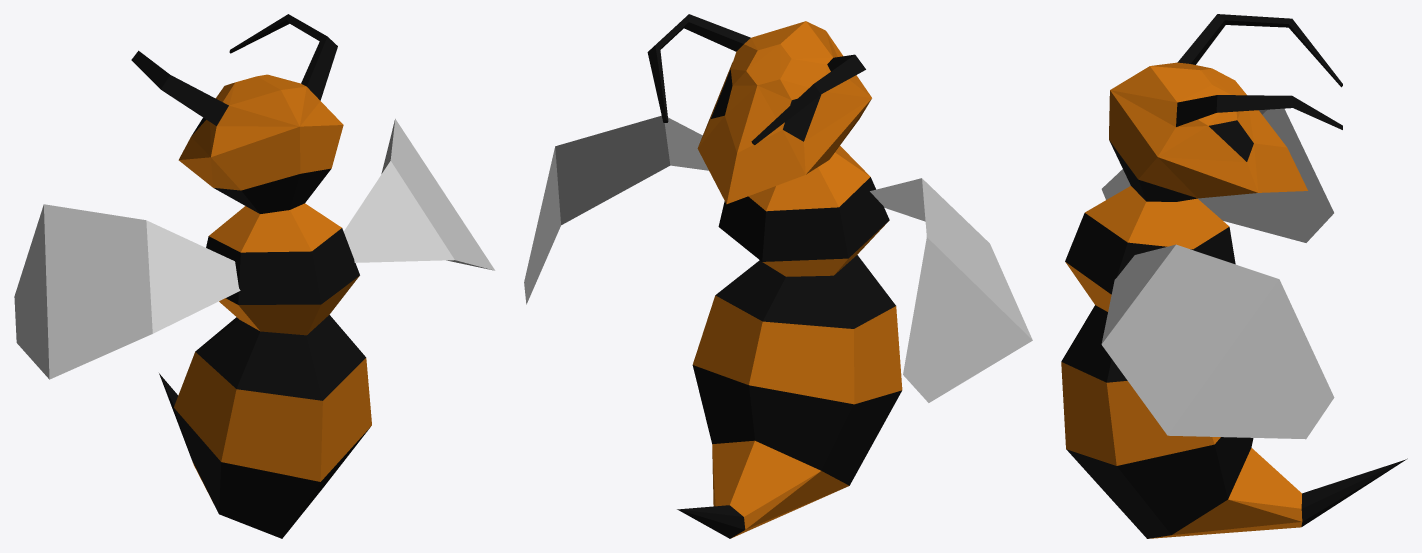
Rendered from bee.obj.
3 renders of one model, left to right at view 1: azimuth 30°, elevation 25°; view 2: azimuth 150°, elevation 25°; view 3: azimuth 270°, elevation 25°, orthographic. The views are drawn at different scales.
Visible parts, largest first — view 1: Cylinder; view 2: Cylinder; view 3: Cylinder.
Part boxes in pixels (<box>): Cylinder: <box>14,14,495,538</box>; Cylinder: <box>524,14,1032,538</box>; Cylinder: <box>1061,14,1407,538</box>.
Size of the model in its own units: 5.05 by 4.96 by 3.22.
